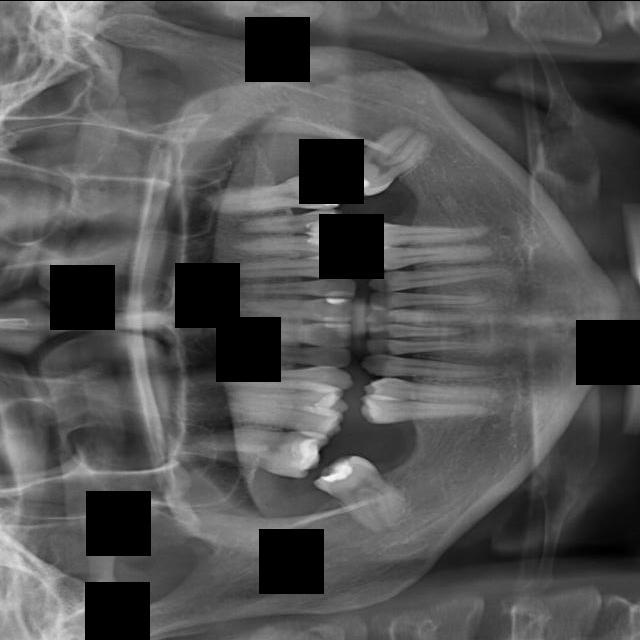AGS Medikal Implant: (210, 276, 361, 297)
AMerOss Implant: (176, 254, 363, 282)
Amalgam filling: (221, 229, 359, 262)
Anthogyr Implant: (232, 207, 353, 237)
Bicon Implant: (198, 164, 349, 220)
Biomet 3i Implant: (323, 104, 451, 213)
Composite filling: (354, 207, 494, 252)
Cowellmedi Implant: (365, 238, 498, 271)
Crown: (364, 261, 516, 293)
DENTSPLY Implant: (367, 287, 499, 308)
Dentatus Implant: (361, 307, 481, 323)
Dentis Implant: (366, 323, 475, 337)
Dentium Implant: (364, 338, 492, 355)
Euroteknika Implant: (358, 354, 512, 380)
Filling: (360, 374, 507, 407)
Frontier Implant: (355, 394, 499, 434)
Hiossen Implant: (160, 409, 336, 488)
Keystone Dental Implant: (307, 439, 420, 546)
MIS Implant: (204, 399, 348, 439)
Mandible: (220, 392, 350, 412)
Maxilla: (166, 366, 357, 391)
Megagen Implant: (304, 345, 306, 346)
Neodent Implant: (222, 316, 356, 346)
Neoss Implant: (231, 295, 356, 321)
